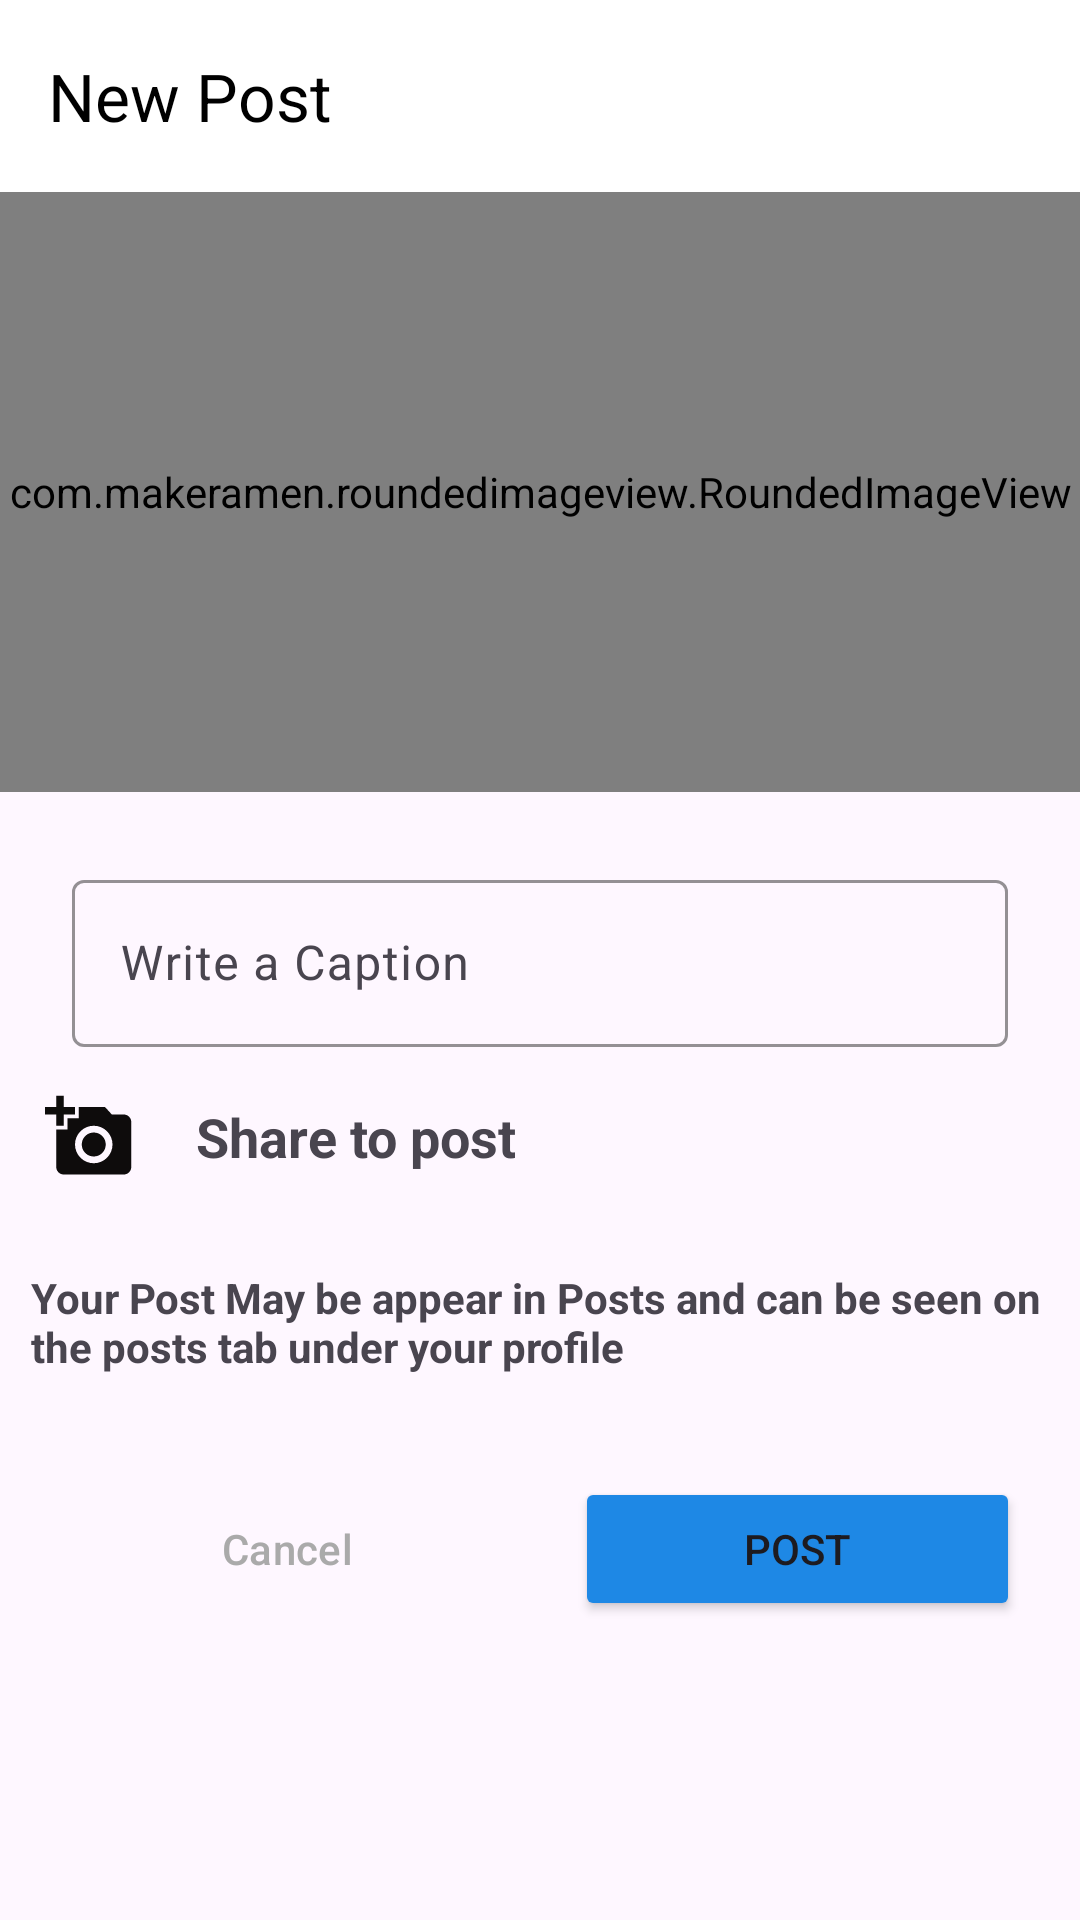

Named icons in this screenshot (1080px x 1920px) and their centers, point (x, y):
add photo: point (88, 1135)
